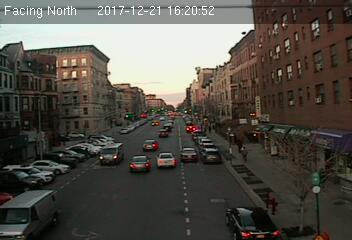car: (224, 205, 281, 240), (98, 142, 125, 166), (129, 155, 152, 172), (200, 146, 222, 163), (154, 152, 177, 167), (179, 147, 199, 162), (142, 140, 159, 151)
truck: (3, 182, 63, 240)
